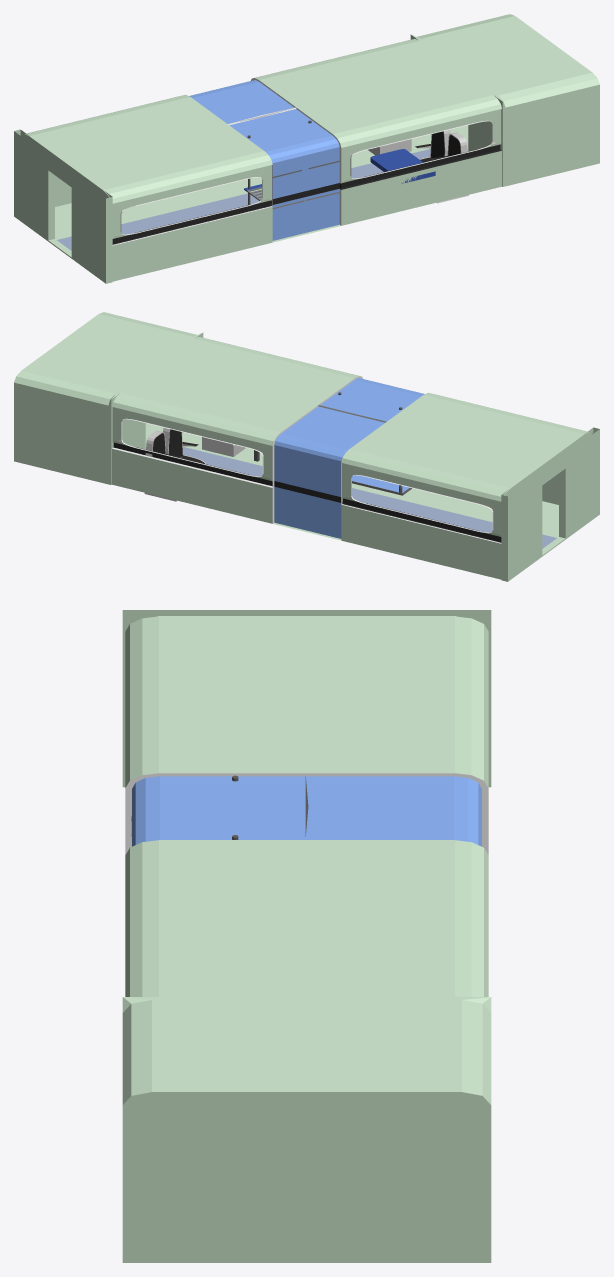
File: sm_train 1.fbx
3 views of the same model, one above another, from view 1: azimuth 30°, elevation 25°; view 2: azimuth 150°, elevation 25°; view 3: azimuth 270°, elevation 25° (orthographic). The views are drawn at different scales.
Parts seen in each view (by area): view 1: Carriage A, Start, Carriage A Connector, Carriage Floor, Chair Left, Table, Rack; view 2: Carriage A, Start, Carriage A Connector, Carriage Floor, Chair Right, Rack, Chair Left; view 3: Carriage A, Start, Carriage A Connector.
Boxes of the visible parts, x1,y1,x2,y2 form: Carriage A: (21,39,501,281); Start: (410,14,599,186); Carriage A Connector: (14,129,112,283); Carriage Floor: (55,134,431,250); Chair Left: (415,129,468,203); Table: (370,149,435,183); Rack: (244,120,339,209); Carriage A: (112,337,592,579); Start: (14,312,203,484); Carriage A Connector: (501,427,599,581); Carriage Floor: (182,432,558,548); Chair Right: (144,427,205,501); Rack: (338,392,411,495); Chair Left: (202,437,245,456); Carriage A: (125,616,488,997); Start: (122,997,491,1262); Carriage A Connector: (122,610,491,787).
Bounding box in the file's own units: 1260 × 215 × 407.
